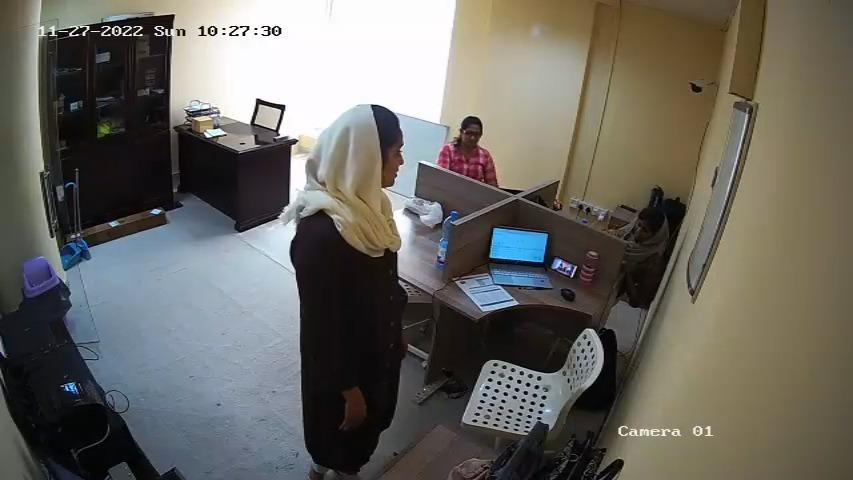no_apron: (304, 207, 406, 382)
